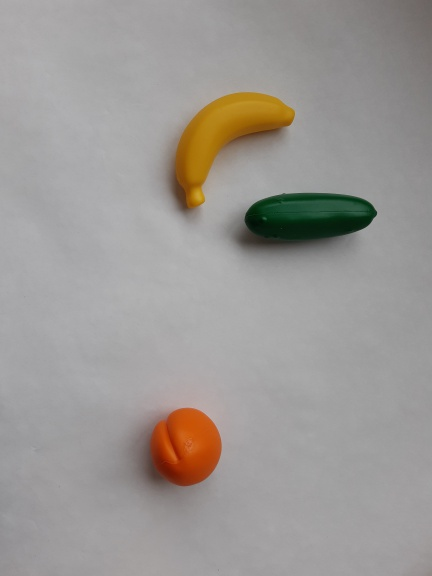apricot: (145, 404, 227, 489)
banana: (170, 86, 304, 213)
cucumber: (239, 188, 382, 242)
